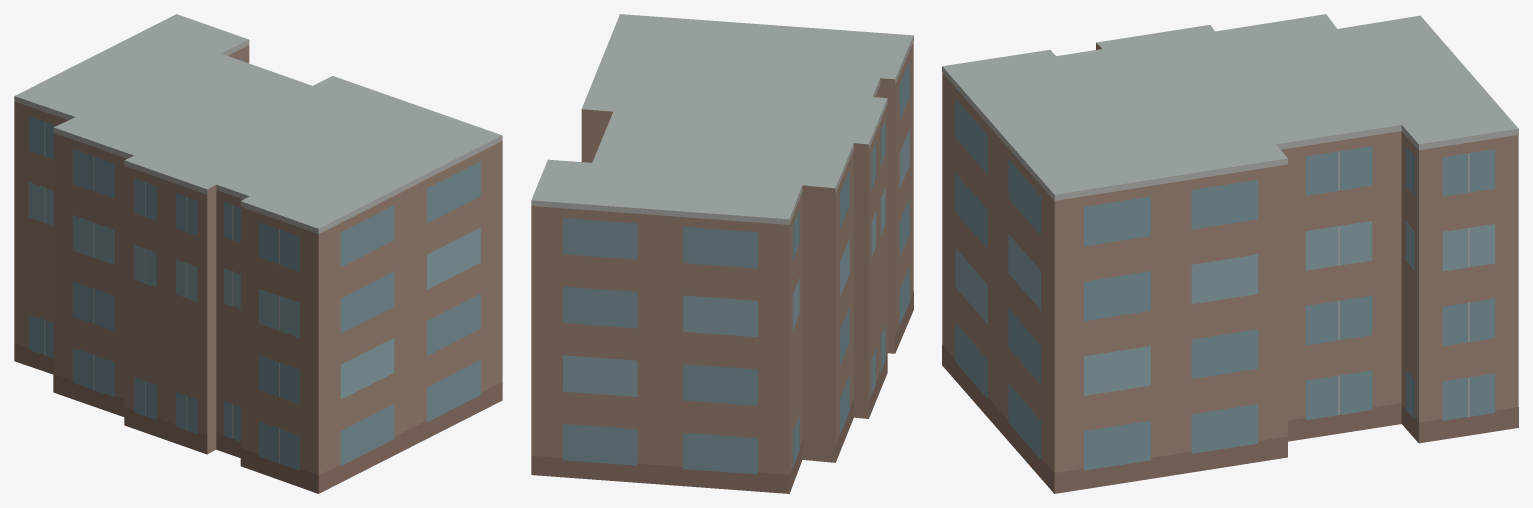
Rendered from survey-upis-32577649.glb.
3 renders of one model, left to right at view 1: azimuth 30°, elevation 25°; view 2: azimuth 150°, elevation 25°; view 3: azimuth 270°, elevation 25°, orthographic. The views are drawn at different scales.
Parts seen in each view (by area): view 1: survey-upis-32577649.tmp; view 2: survey-upis-32577649.tmp; view 3: survey-upis-32577649.tmp.
Part boxes in pixels (x1,y1,x2,y2): survey-upis-32577649.tmp: [14, 14, 502, 493]; survey-upis-32577649.tmp: [531, 14, 913, 493]; survey-upis-32577649.tmp: [942, 14, 1518, 493].
Size of the model in its own units: 15.58 by 12 by 20.98.
